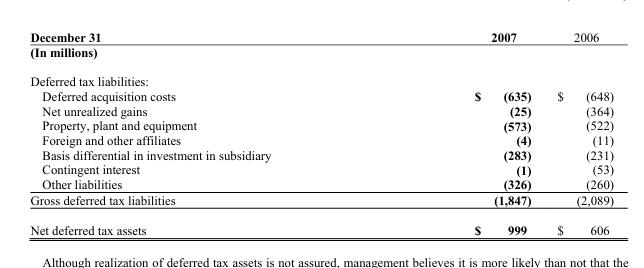table: (29, 29, 613, 237)
table column: (29, 29, 372, 237), (372, 29, 543, 237), (543, 29, 613, 237)
table column header: (29, 29, 613, 44)
table projected row header: (29, 44, 613, 66), (29, 66, 613, 88)
table row: (29, 191, 613, 214), (29, 214, 613, 237), (29, 44, 613, 66), (29, 66, 613, 88), (29, 29, 613, 44), (29, 88, 613, 103), (29, 117, 613, 132), (29, 132, 613, 147), (29, 161, 613, 176), (29, 176, 613, 191), (29, 103, 613, 117), (29, 147, 613, 161)
